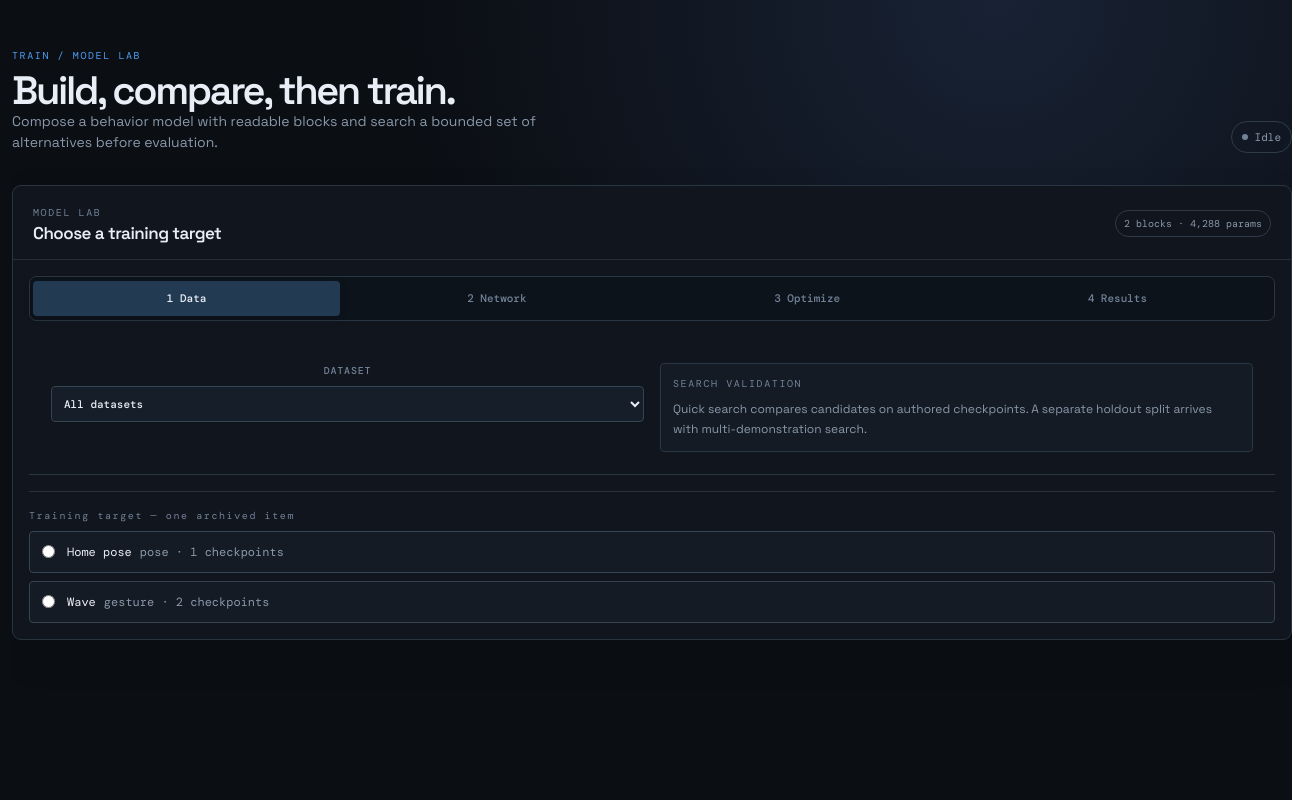
Test case: TrainingPage single-target picker › labels restored results as historical rather than promoted
Click the tab "4 Results" at [1117, 299], box left=964, top=280, right=1271, bottom=317
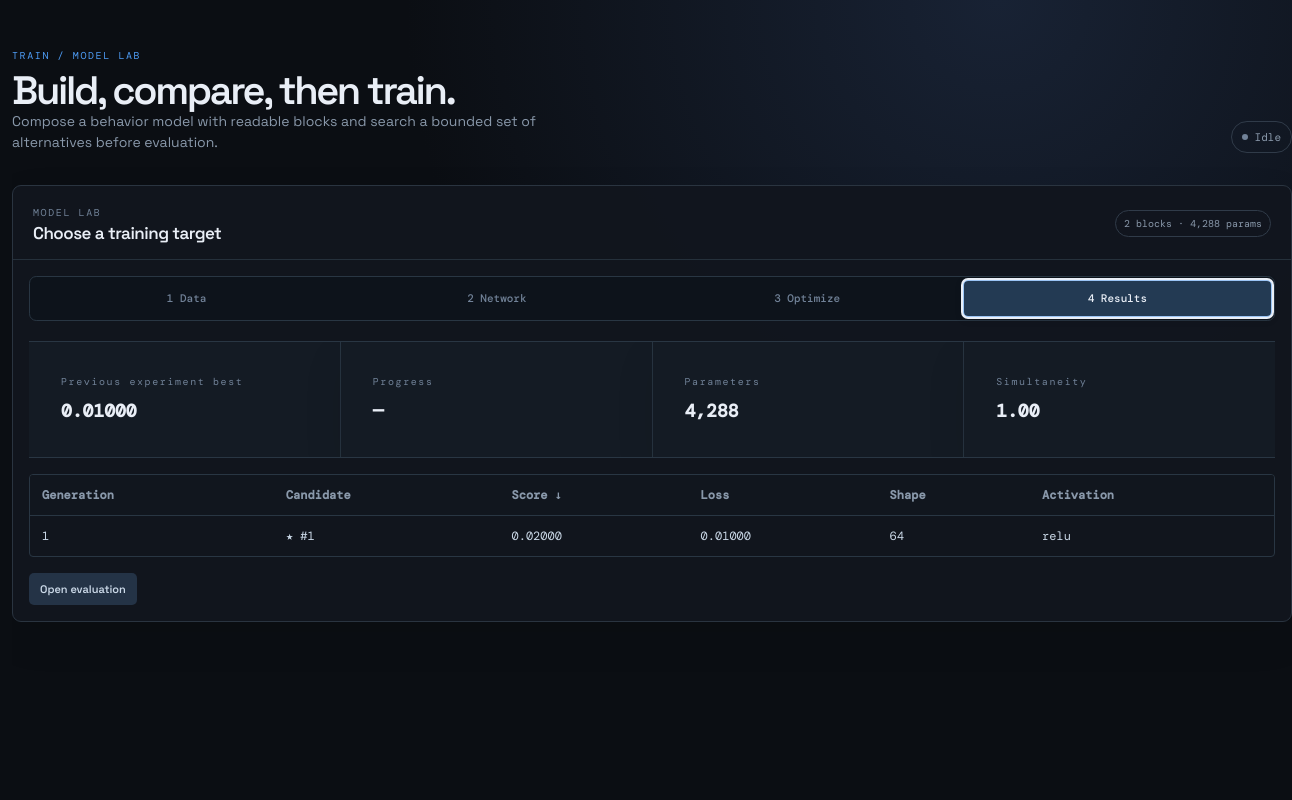
Check: the text "Previous experiment best" is shown, box left=61, top=375, right=243, bottom=388
